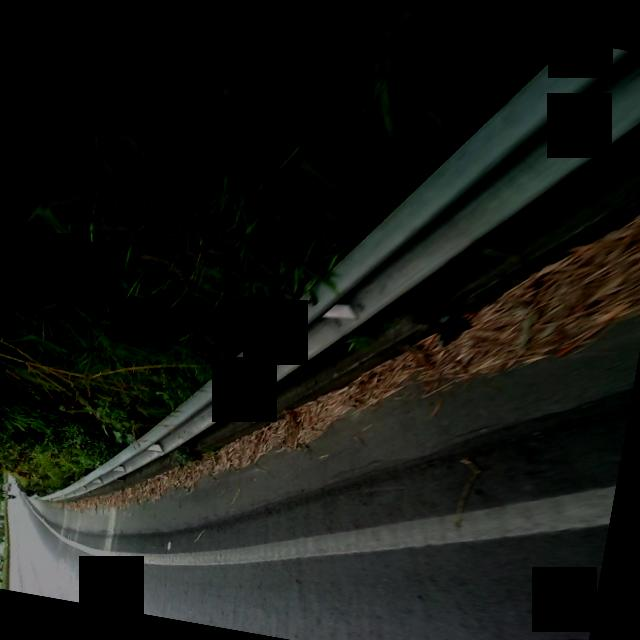DITCH: (17, 96, 640, 602)
